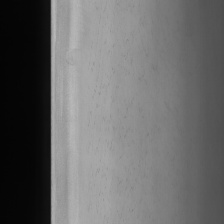silk_spot: (88, 51, 121, 173)
